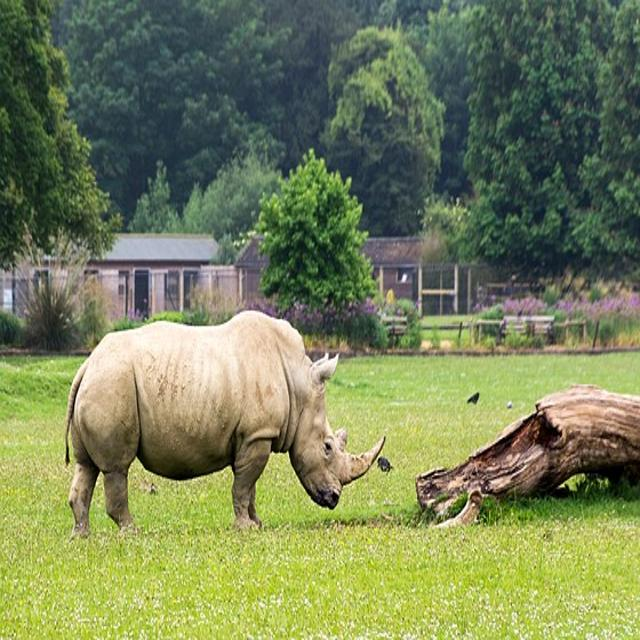rhino: (35, 288, 408, 556)
